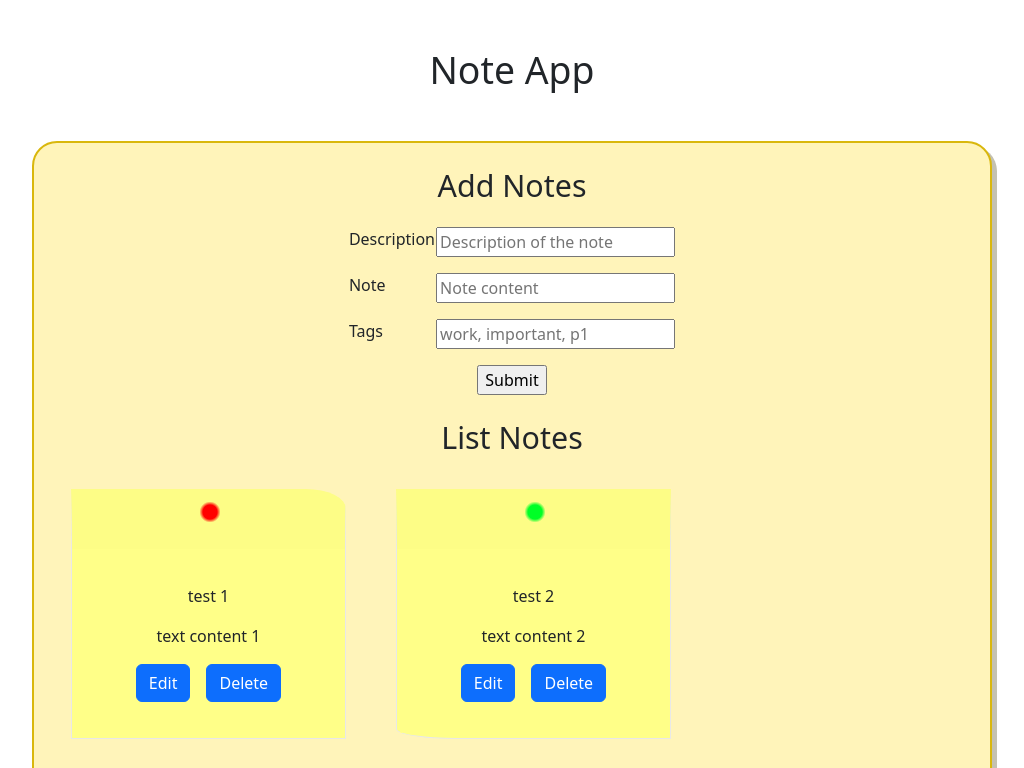
Delete note › should delete a note
This screenshot has width=1024, height=768.
Expected: the text "text content 1" is shown, left=156, top=625, right=260, bottom=647
Click the button "Delete" below "test 1".
click(244, 683)  # box left=206, top=664, right=281, bottom=702
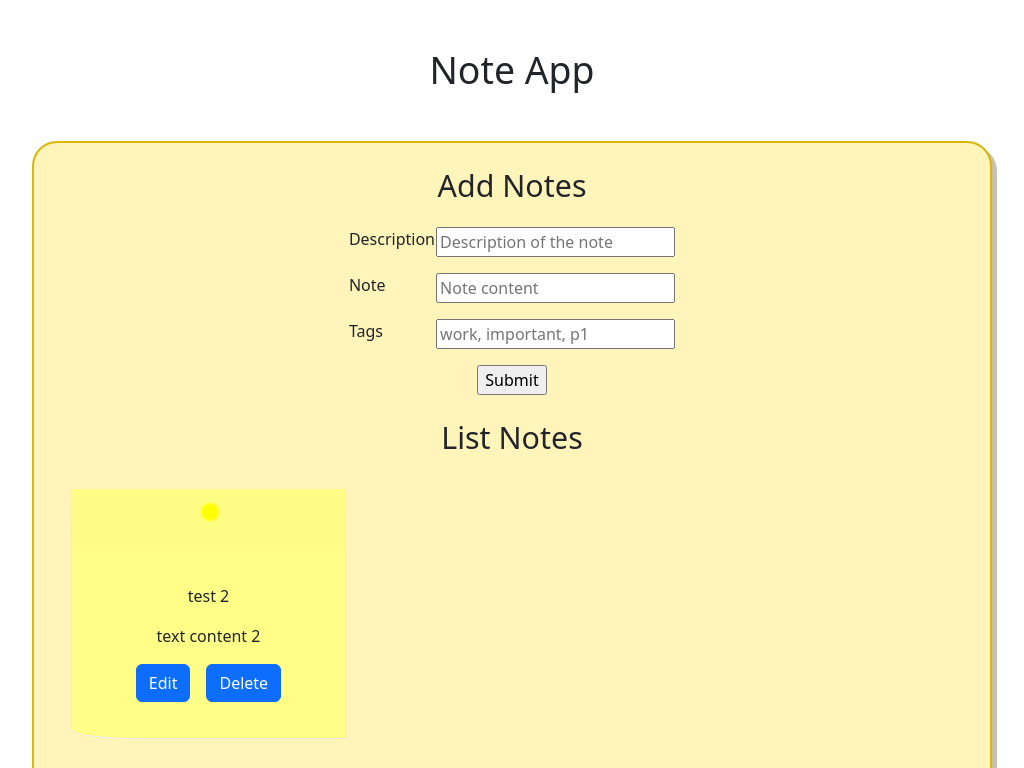
Result: the text "text content 1" is gone
